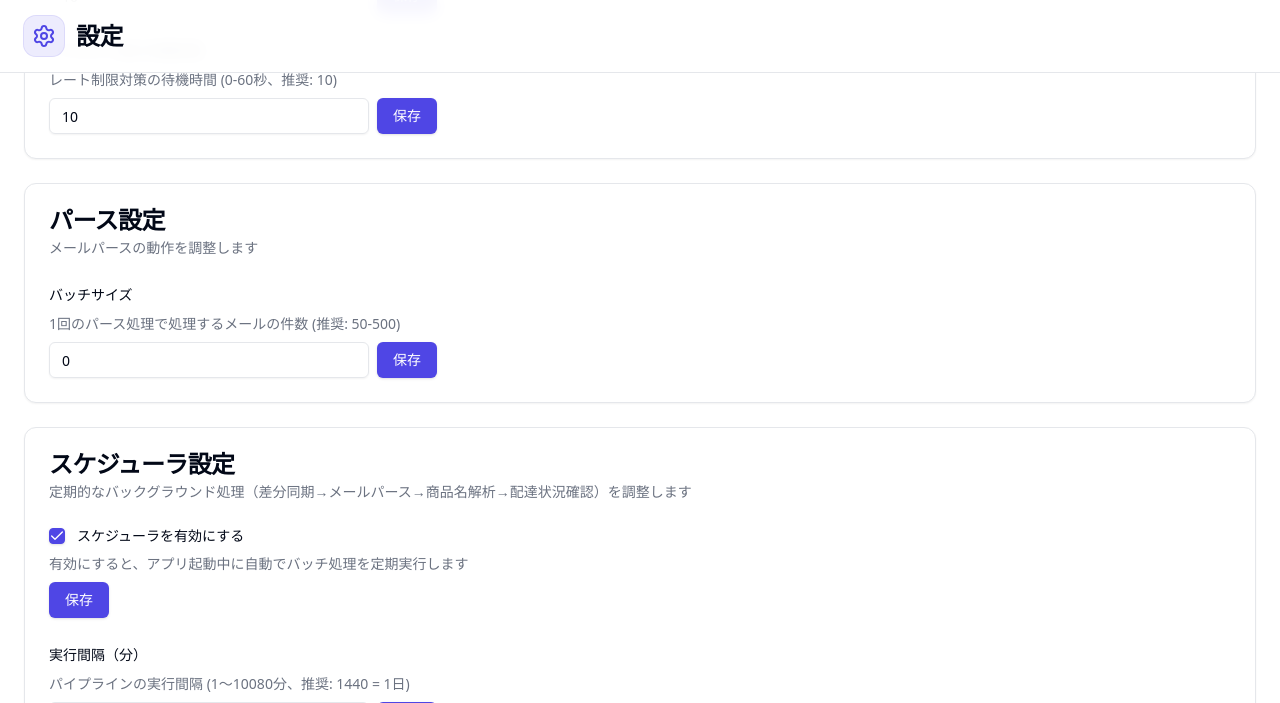
Test: Settings › handleSaveParseBatchSize › shows validation error for invalid parse batch size
The width and height of the screenshot is (1280, 703).
(page scrolled)
Expected: the number field labelled "バッチサイズ" is shown, [49, 342, 369, 378]
Click the button with aria-label "パースバッチサイズを保存" at [407, 360], box [377, 342, 437, 378]
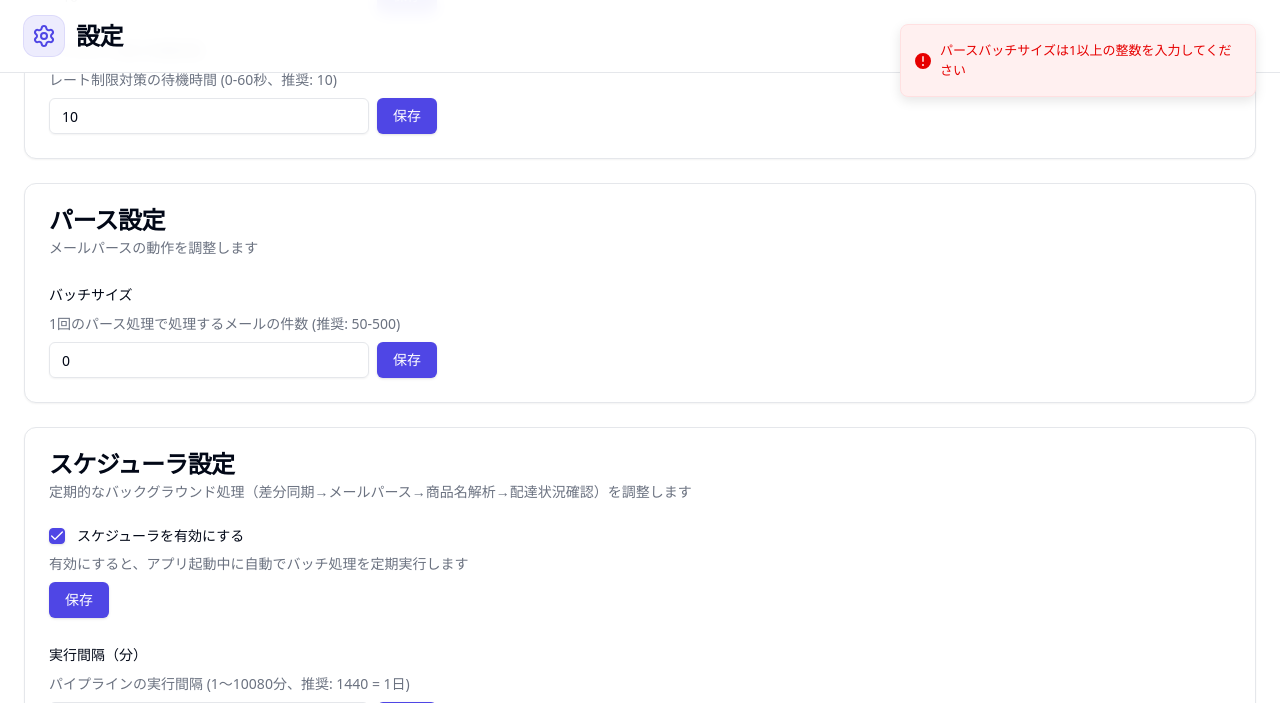
Expected: the text "パースバッチサイズは1以上の整数を入力してください" is shown, [940, 41, 1239, 80]
